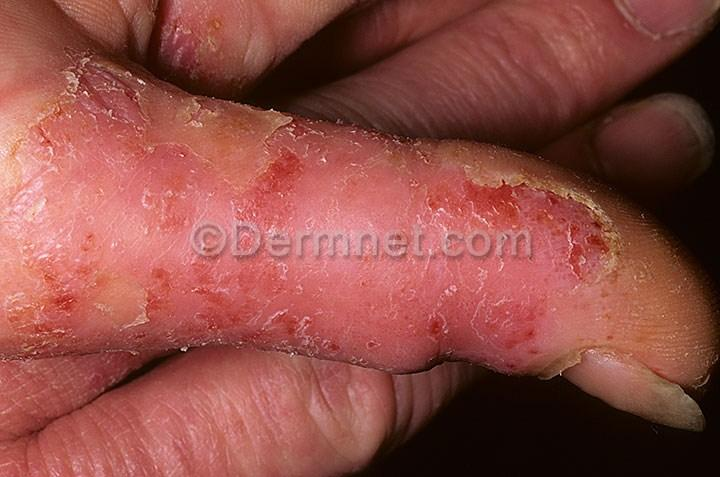Eczema: (175, 160, 279, 305), (501, 156, 598, 292), (279, 187, 354, 313), (348, 203, 424, 324), (38, 173, 138, 262), (33, 99, 134, 177), (123, 159, 191, 273), (434, 226, 496, 338), (75, 255, 147, 350), (5, 248, 84, 334), (645, 235, 695, 357), (593, 197, 649, 304), (435, 139, 499, 232), (0, 122, 49, 242), (199, 101, 269, 177), (134, 82, 205, 156), (179, 388, 236, 477), (313, 125, 380, 198), (132, 385, 185, 477), (501, 290, 564, 362), (376, 136, 435, 209), (79, 405, 138, 477), (196, 303, 289, 348), (269, 106, 318, 188), (563, 292, 629, 352), (141, 273, 198, 341), (0, 339, 67, 391), (0, 388, 62, 444), (77, 57, 136, 115), (334, 315, 391, 375), (432, 323, 500, 367), (623, 306, 665, 375), (160, 41, 231, 81), (0, 443, 82, 477), (388, 312, 433, 372), (284, 311, 334, 361), (60, 336, 105, 388), (207, 5, 253, 52), (249, 0, 286, 54), (165, 3, 209, 43), (230, 45, 269, 77), (106, 337, 137, 374), (195, 72, 239, 98)
